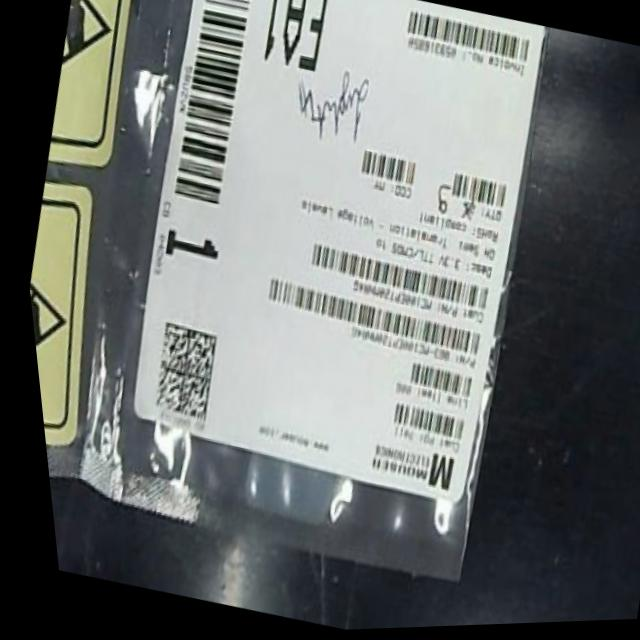datamatrix: (134, 316, 221, 427)
